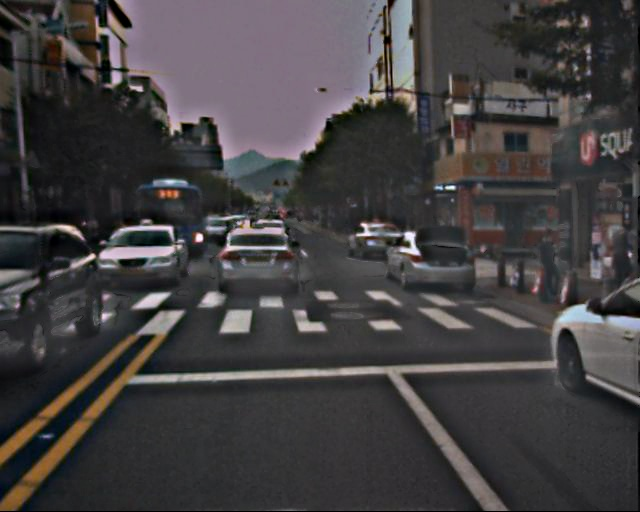person: (605, 219, 639, 303), (535, 227, 567, 304)
